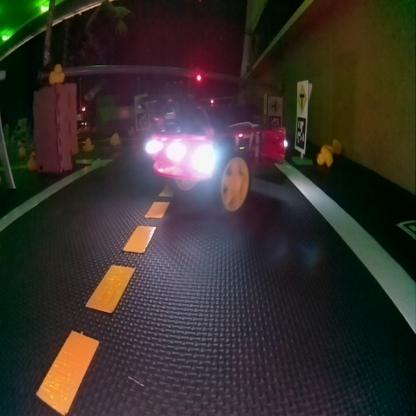Duckie: (316, 147, 331, 165), (48, 64, 63, 82), (331, 137, 341, 152), (82, 137, 93, 150), (109, 134, 120, 146), (28, 152, 36, 166), (127, 124, 134, 133)
Duckiebot: (150, 119, 286, 210)
Intersection sign: (296, 83, 305, 113), (268, 97, 281, 114)
QR code: (295, 117, 305, 150), (269, 115, 280, 128)
Traffic light: (195, 71, 201, 81), (209, 97, 214, 104)
